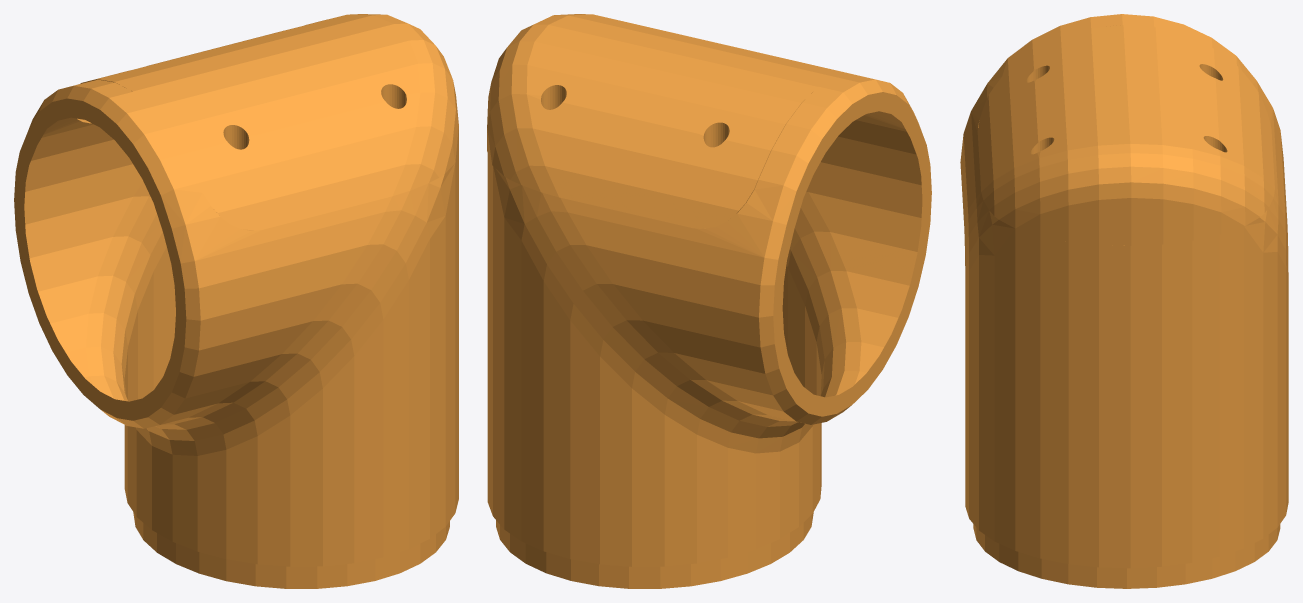
3 renders of one model, left to right at view 1: azimuth 30°, elevation 25°; view 2: azimuth 150°, elevation 25°; view 3: azimuth 270°, elevation 25°, orthographic. The views are drawn at different scales.
Visible parts, largest first — view 1: link_1; view 2: link_1; view 3: link_1.
Part boxes in pixels (x1,y1,x2,y2): link_1: (14, 14, 458, 588); link_1: (487, 14, 931, 588); link_1: (960, 14, 1288, 588).
Size of the model in its own units: 0.2113 by 0.1922 by 0.2788.
